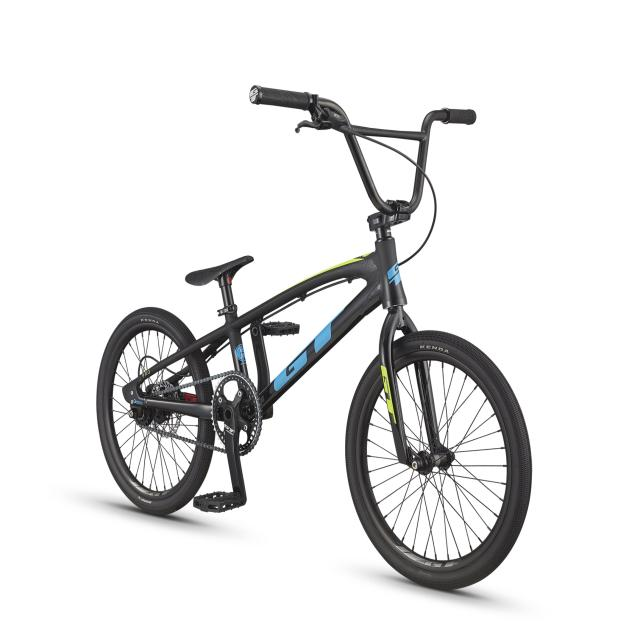bmx-bike: (93, 83, 533, 587)
